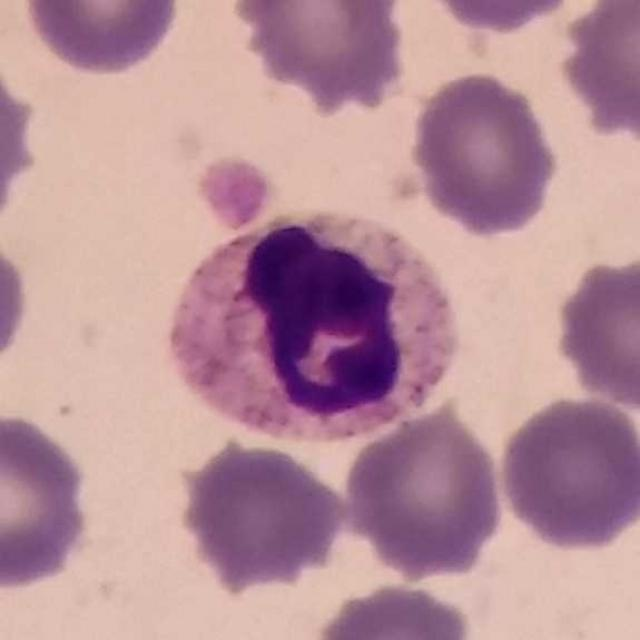Neutrophil: (152, 197, 474, 455)
RBC: (340, 398, 508, 579), (174, 436, 350, 596), (405, 67, 563, 239), (494, 391, 640, 554), (225, 0, 412, 116), (0, 405, 97, 593), (550, 248, 640, 413), (17, 0, 186, 79), (556, 1, 640, 141), (309, 577, 478, 640), (0, 45, 43, 236), (191, 152, 276, 230), (415, 0, 588, 35), (0, 222, 35, 382)
